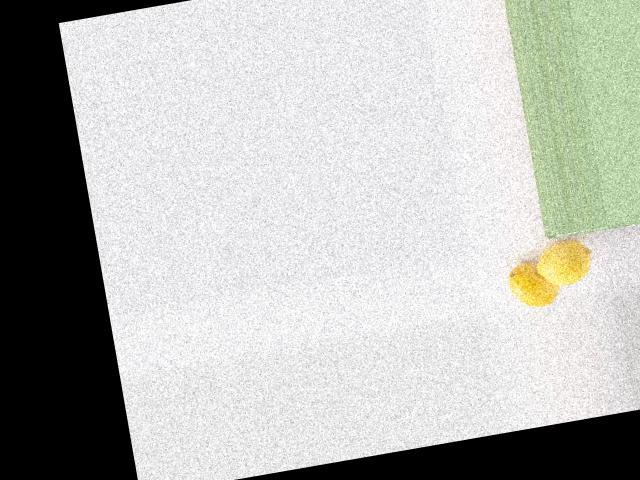lemon: (504, 261, 559, 313)
